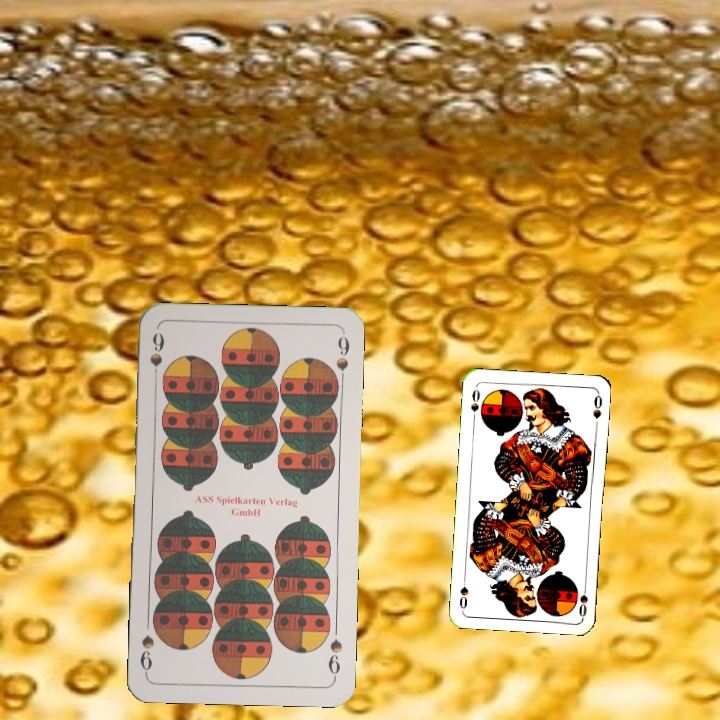S9: (146, 328, 167, 386), (323, 635, 345, 681)
SO: (467, 383, 482, 424), (575, 578, 590, 619)
